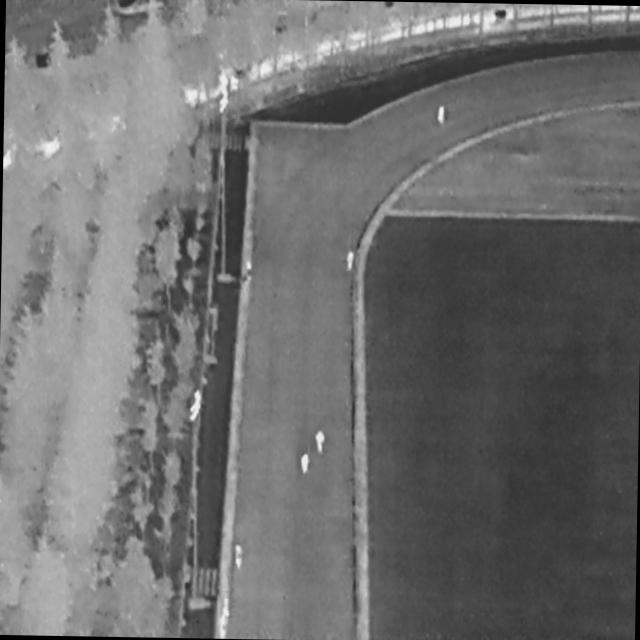person: (235, 543, 245, 571), (218, 616, 228, 639), (316, 430, 325, 455), (346, 250, 355, 273), (302, 452, 311, 475), (438, 104, 446, 127), (223, 595, 230, 620), (246, 260, 254, 281)
